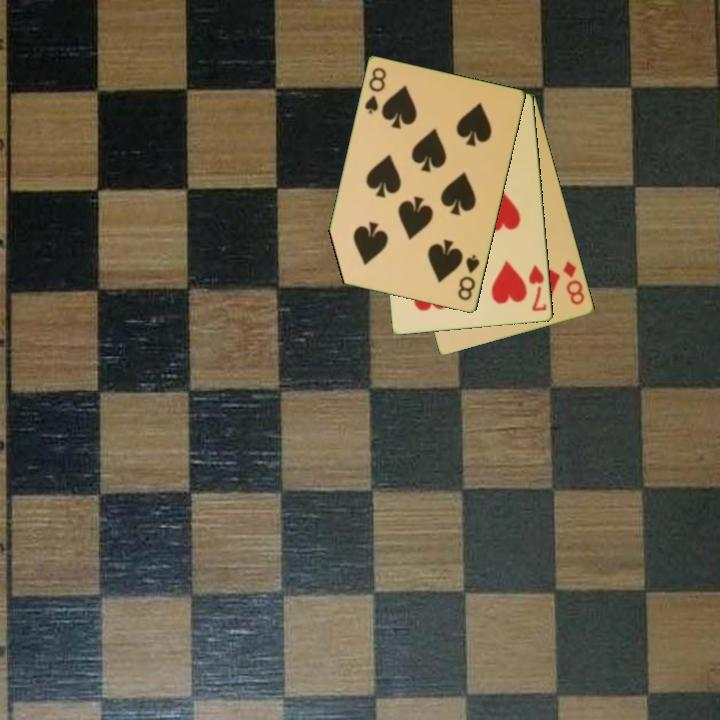7h: (525, 261, 550, 315)
8d: (560, 258, 588, 308)
8s: (454, 251, 483, 304), (361, 64, 390, 117)
